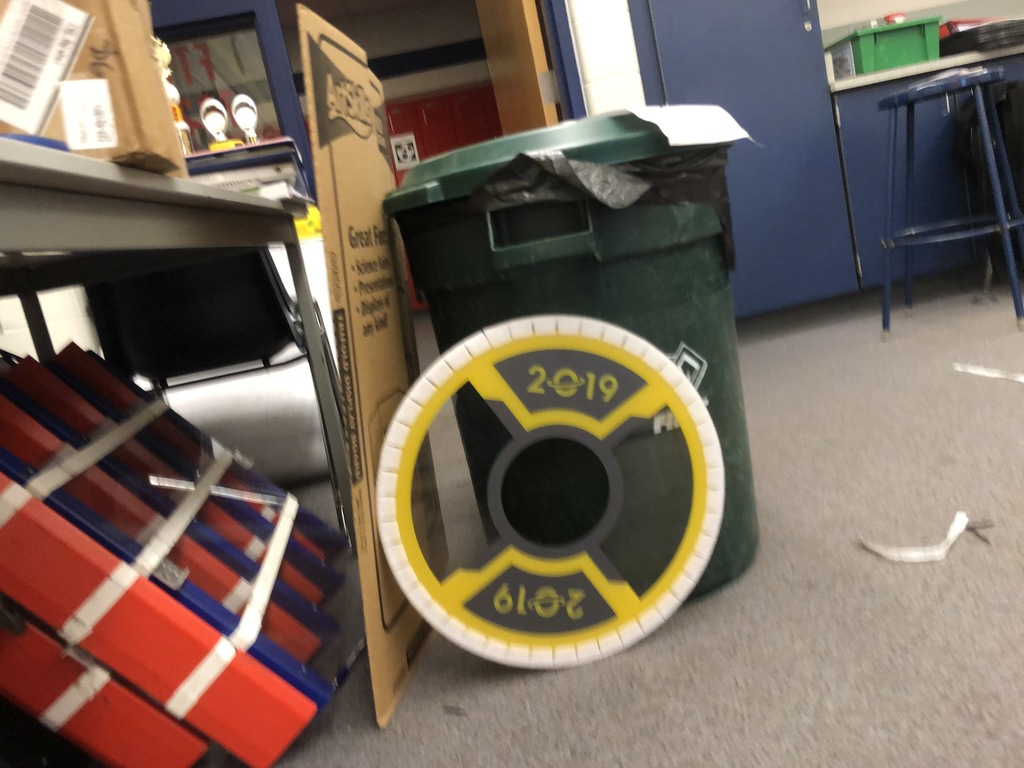hatch_panel: (366, 307, 734, 673)
